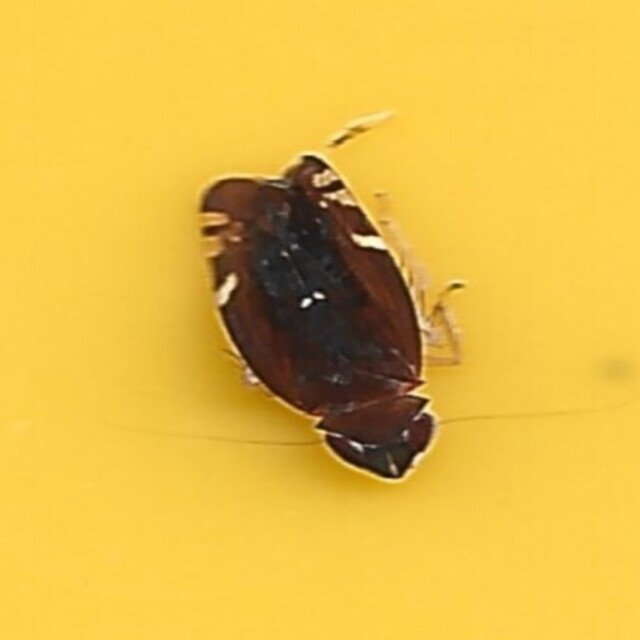Hemiptera: (195, 152, 445, 488)
